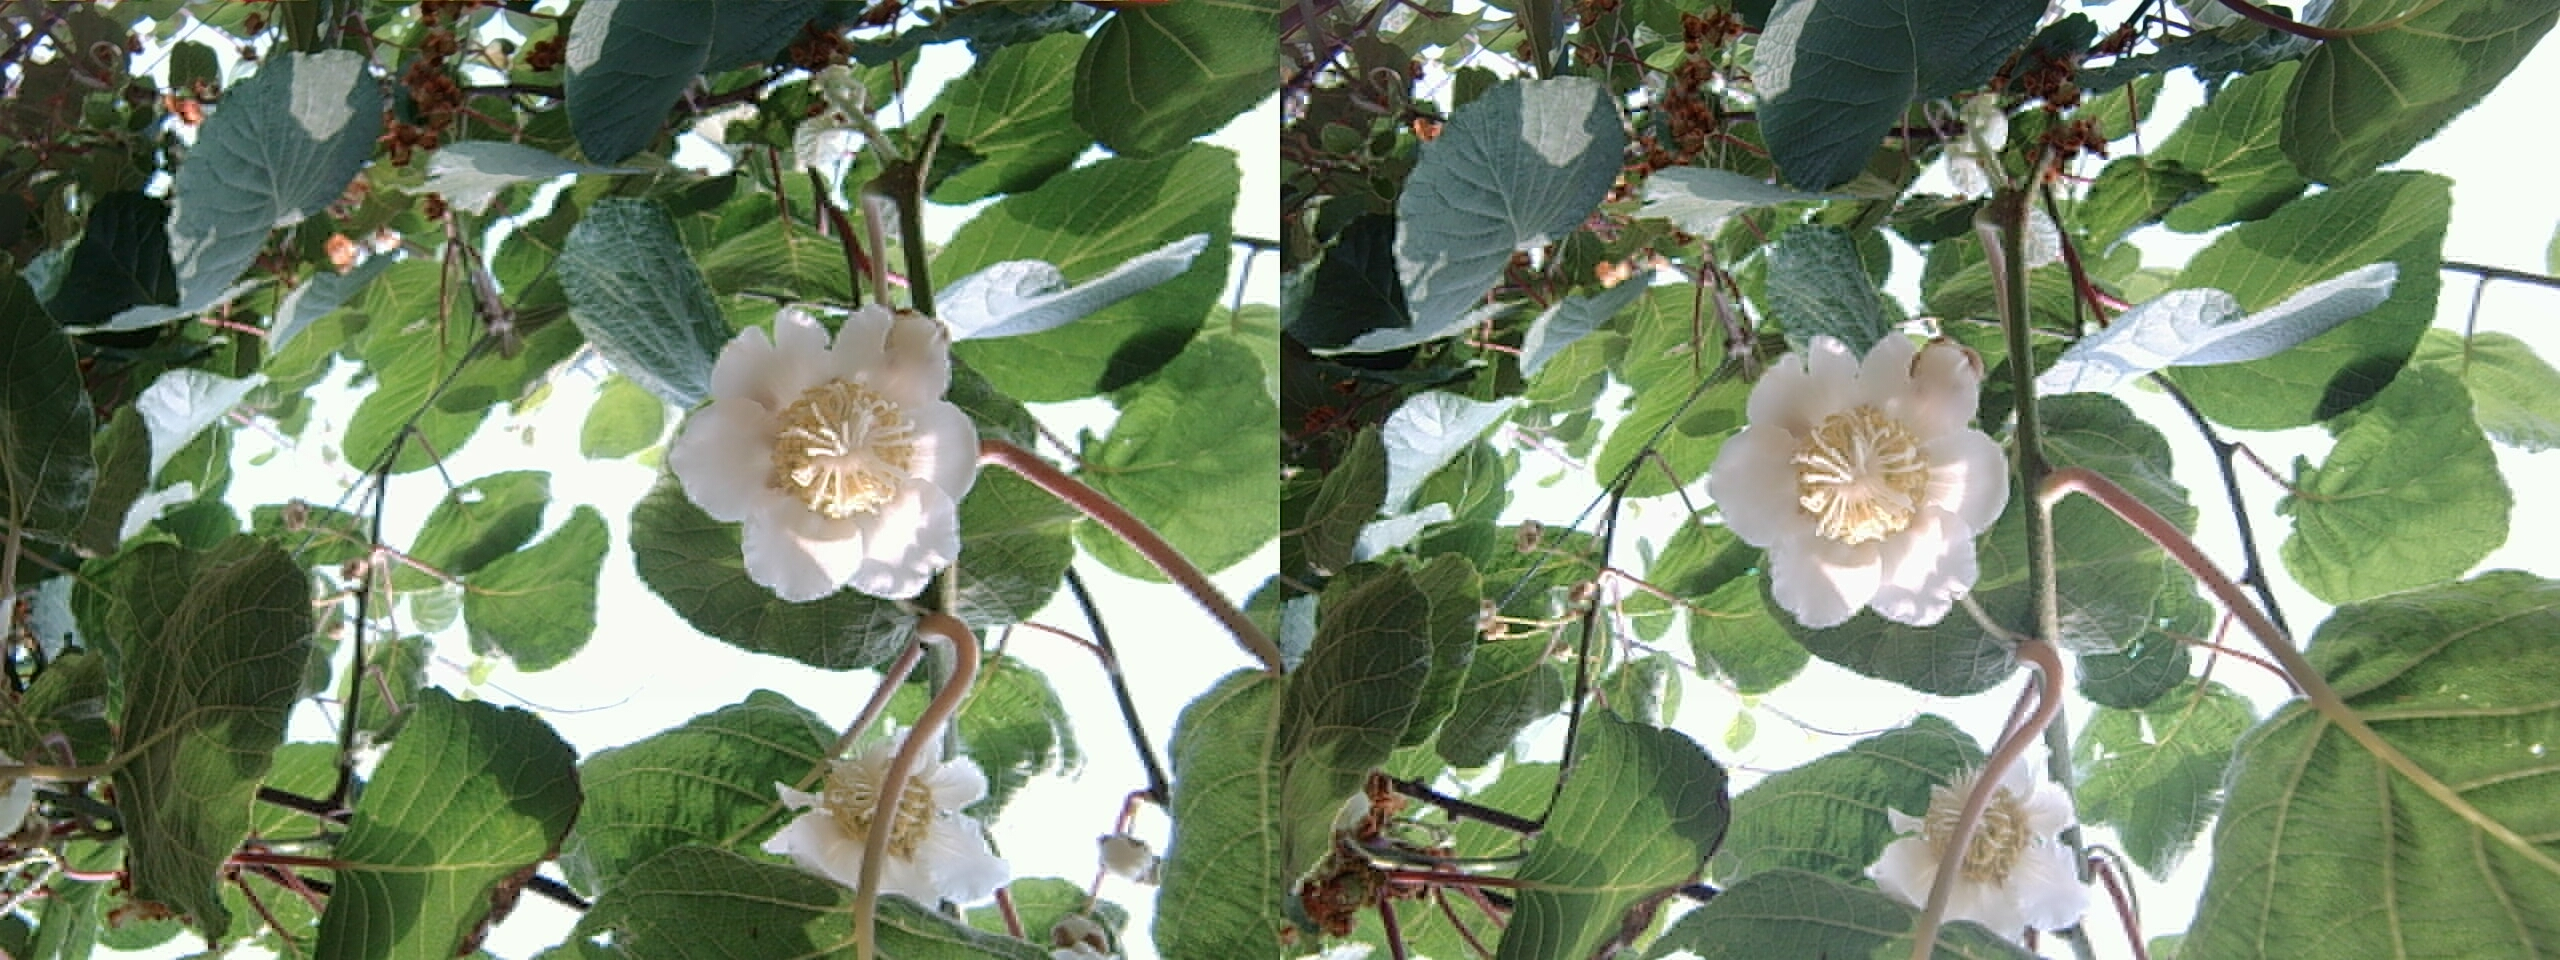flower: (1703, 317, 1998, 617), (681, 305, 967, 589), (780, 727, 1006, 909), (1879, 748, 2090, 927)
